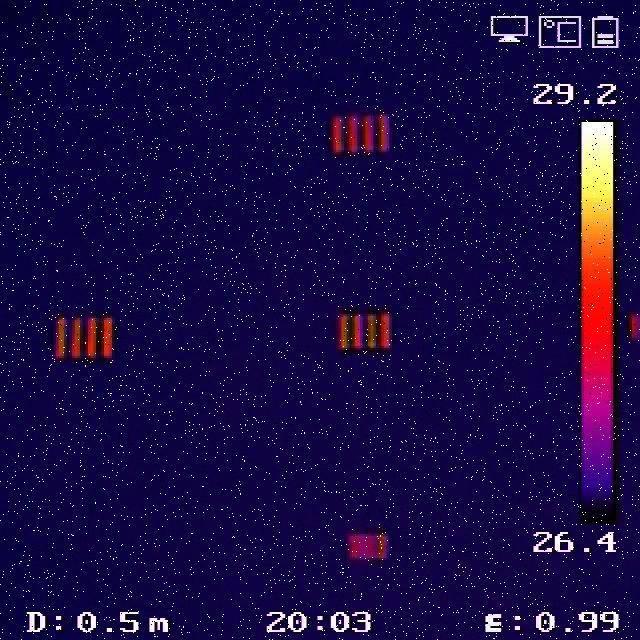Distinguishable 4-bar target: (49, 313, 116, 361), (334, 309, 394, 351), (331, 115, 392, 154)
Indistinguishable 4-bar target: (348, 534, 389, 561)
